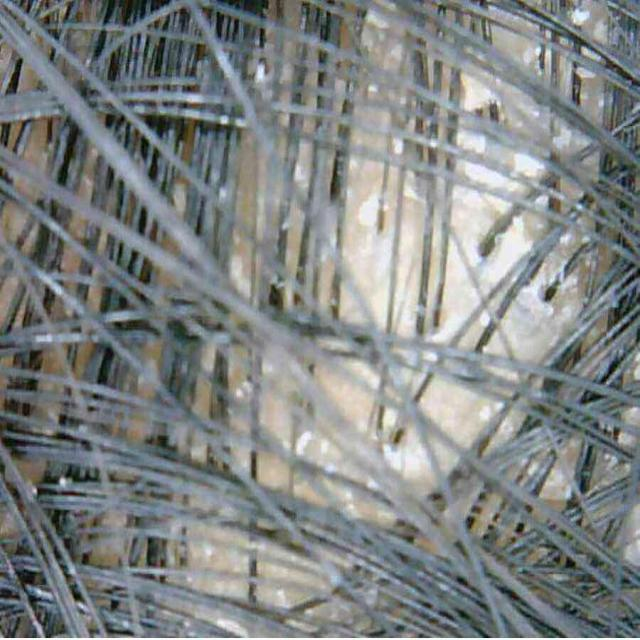d: (516, 279, 552, 316), (461, 73, 494, 112), (229, 254, 251, 298), (514, 154, 545, 178), (456, 130, 486, 154), (358, 194, 379, 227), (172, 180, 186, 217), (365, 10, 389, 29), (592, 16, 608, 43), (296, 431, 312, 456), (552, 130, 570, 150), (575, 68, 596, 85), (255, 57, 268, 82), (571, 9, 590, 26), (580, 47, 601, 62)
ds: (491, 216, 532, 259)
